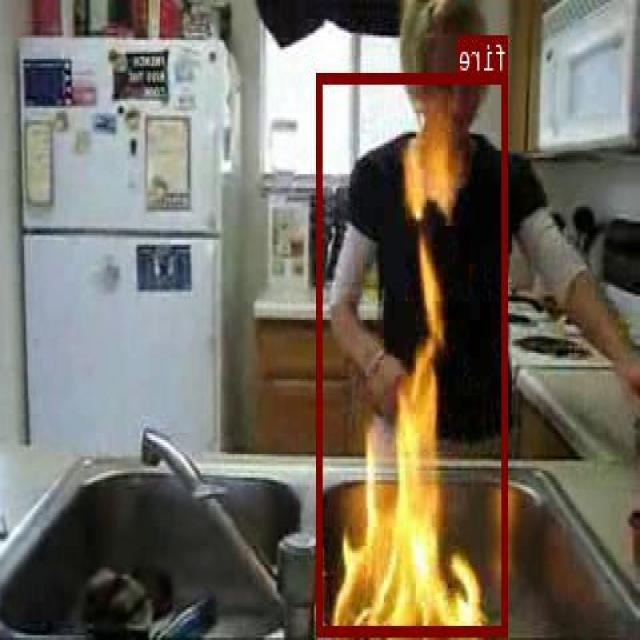fire: (318, 71, 508, 634)
